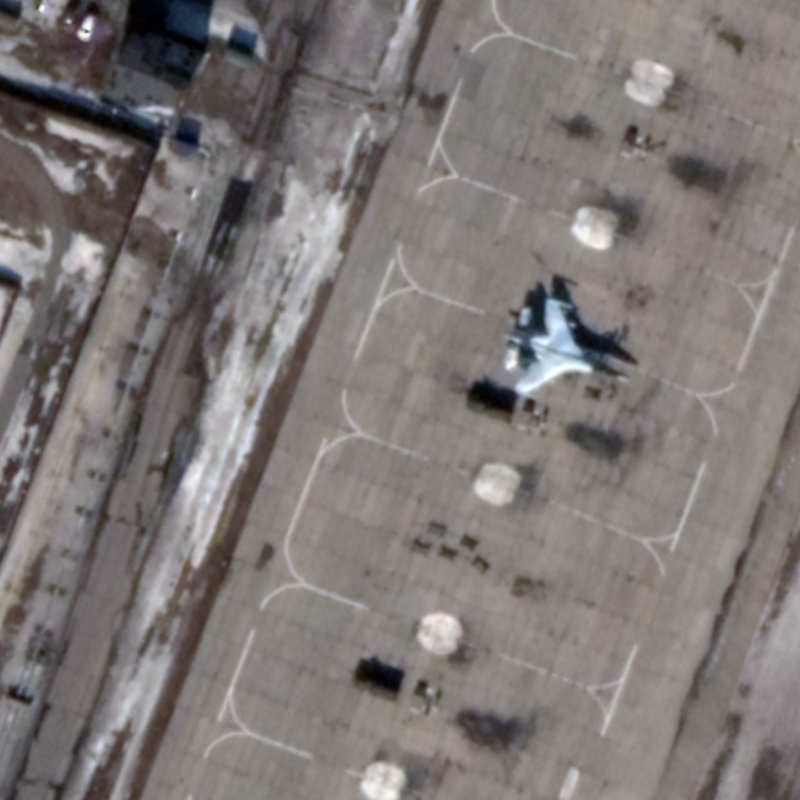A1: (499, 292, 635, 400)
